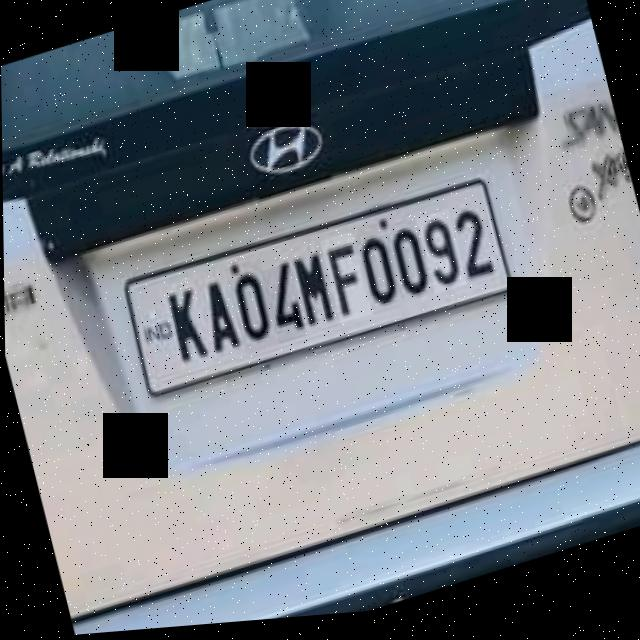0: (223, 261, 279, 359), (352, 225, 403, 322), (382, 223, 432, 311)
4: (260, 265, 308, 349)
9: (415, 215, 466, 302)
A: (195, 270, 246, 366)
F: (319, 236, 371, 331)
K: (157, 278, 212, 376)
M: (286, 247, 340, 345)
